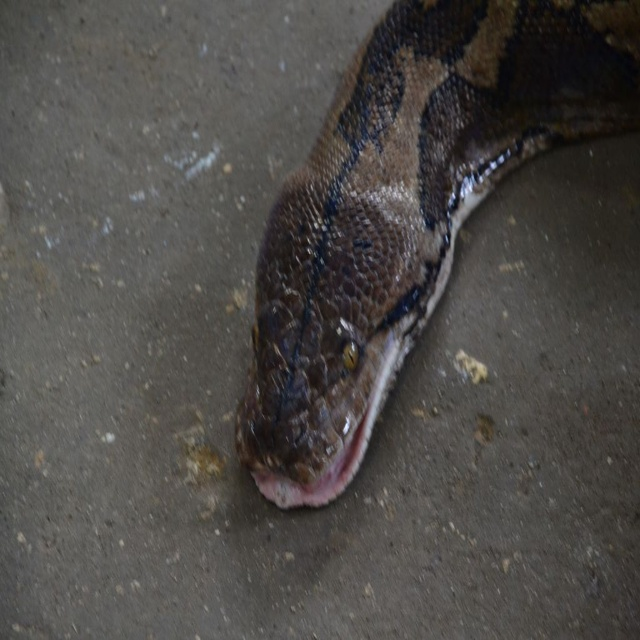Snake: (240, 2, 640, 506)
